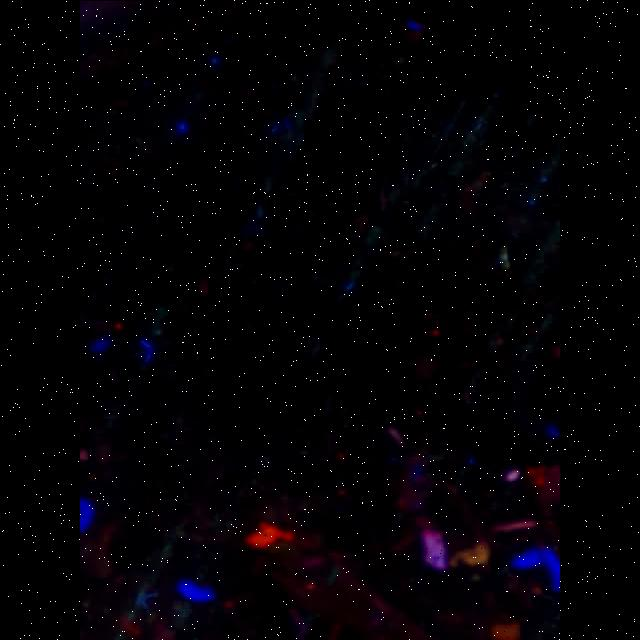microbeads: (496, 243, 510, 270)
